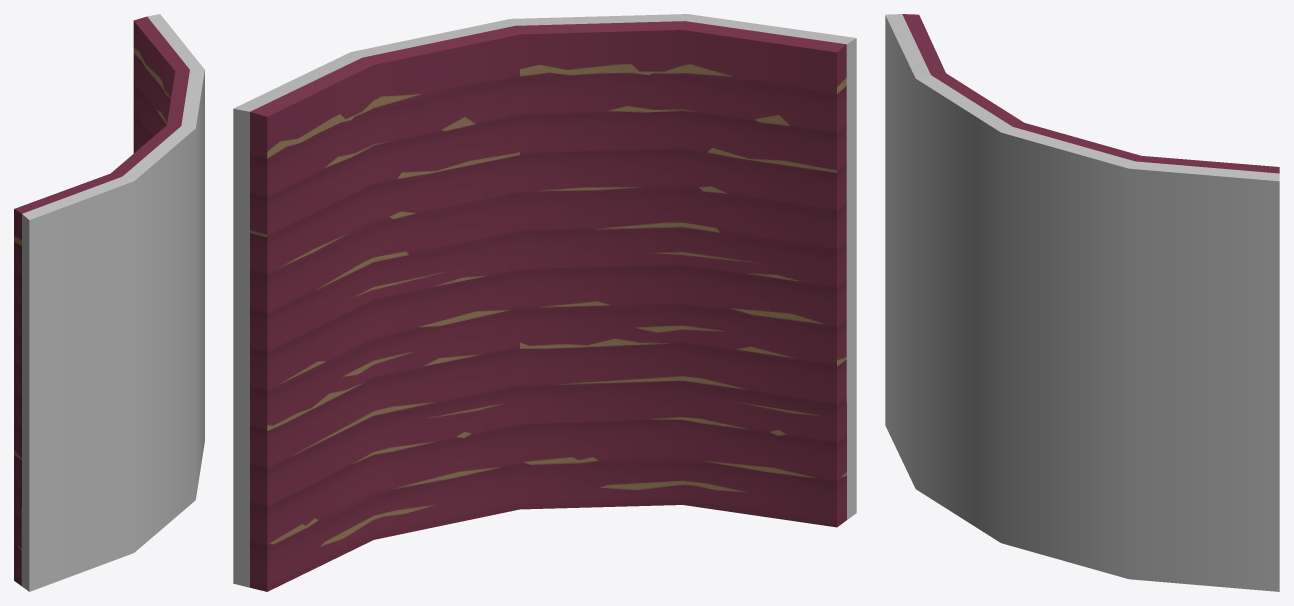
File: SM_Bld_Wall_Curved_M_01.fbx
The picture shows the model from 3 angles, left to right: view 1: azimuth 30°, elevation 25°; view 2: azimuth 150°, elevation 25°; view 3: azimuth 270°, elevation 25°; orthographic projection. The views are drawn at different scales.
Parts seen in each view (by area): view 1: SM_Bld_Wall_Curved_M_01; view 2: SM_Bld_Wall_Curved_M_01; view 3: SM_Bld_Wall_Curved_M_01.
Boxes of the visible parts, left/top/right/bottom form: SM_Bld_Wall_Curved_M_01: left=14, top=14, right=204, bottom=591; SM_Bld_Wall_Curved_M_01: left=233, top=14, right=856, bottom=591; SM_Bld_Wall_Curved_M_01: left=885, top=14, right=1279, bottom=591.
Size of the model in its own units: 261 by 301 by 261.
